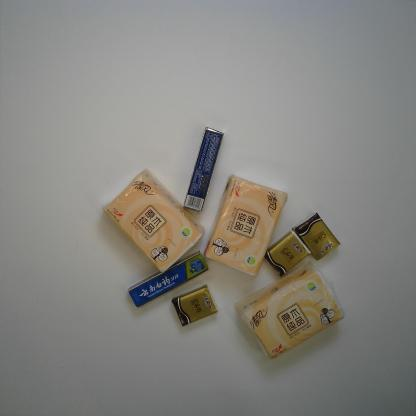Personal Hygiene: (128, 250, 209, 309), (182, 126, 224, 213)
Tissue: (234, 259, 346, 360), (101, 168, 204, 275), (203, 174, 288, 276), (292, 212, 341, 261), (264, 231, 309, 277), (171, 284, 218, 327)
